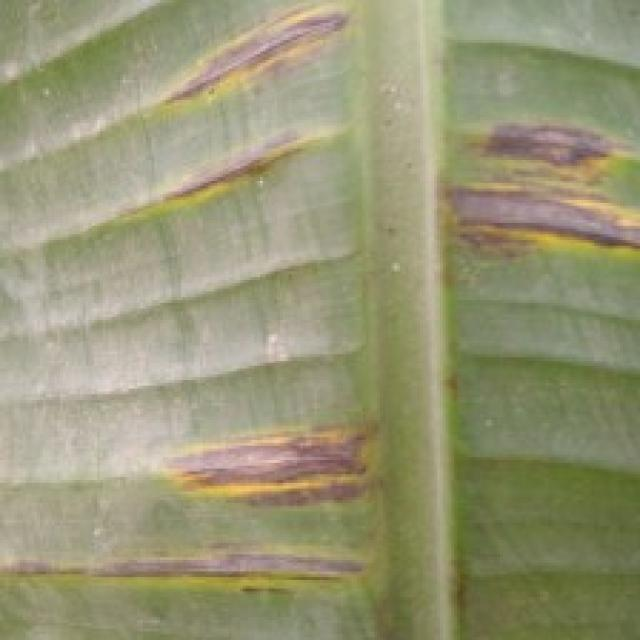Early_leaf_spot: (423, 92, 640, 277), (91, 0, 357, 114), (93, 112, 340, 222), (0, 537, 366, 611), (149, 405, 384, 514)
